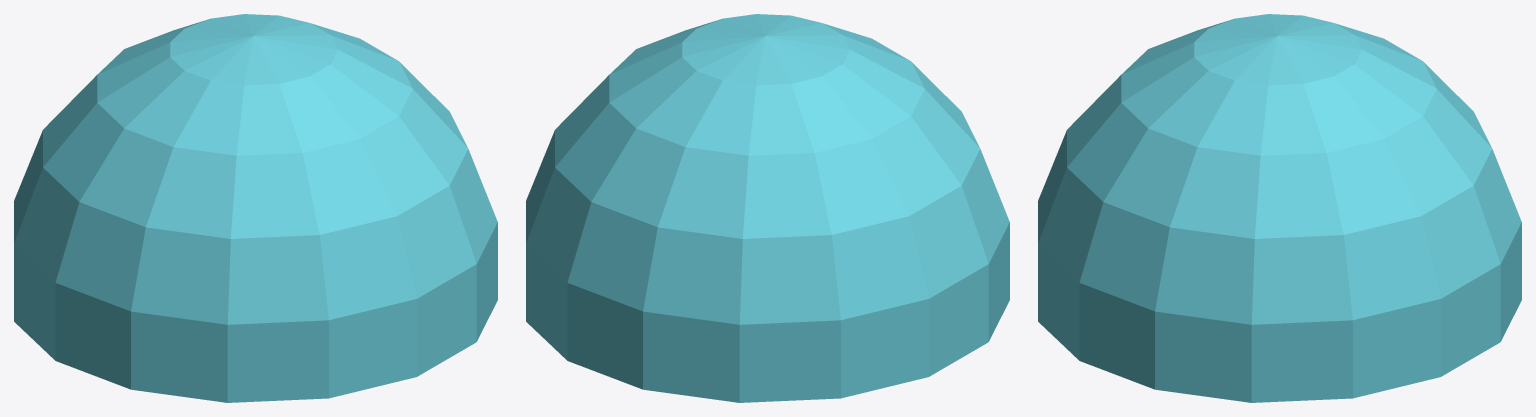
File: platformesphère.fbx
The picture shows the model from 3 angles, left to right: view 1: azimuth 30°, elevation 25°; view 2: azimuth 150°, elevation 25°; view 3: azimuth 270°, elevation 25°; orthographic projection.
Visible parts, largest first — view 1: Sphere.002; view 2: Sphere.002; view 3: Sphere.002.
Part boxes in pixels (x1,y1,x2,y2): Sphere.002: [14, 14, 497, 402]; Sphere.002: [526, 14, 1009, 402]; Sphere.002: [1038, 14, 1521, 402].
Bounding box in the file's own units: 71.08 × 42.59 × 70.69.
